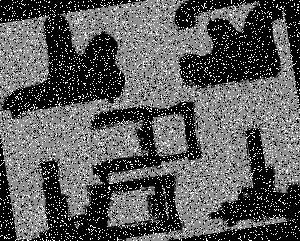SMG: (7, 157, 187, 241), (0, 12, 125, 119), (199, 123, 300, 232), (176, 15, 280, 92)
